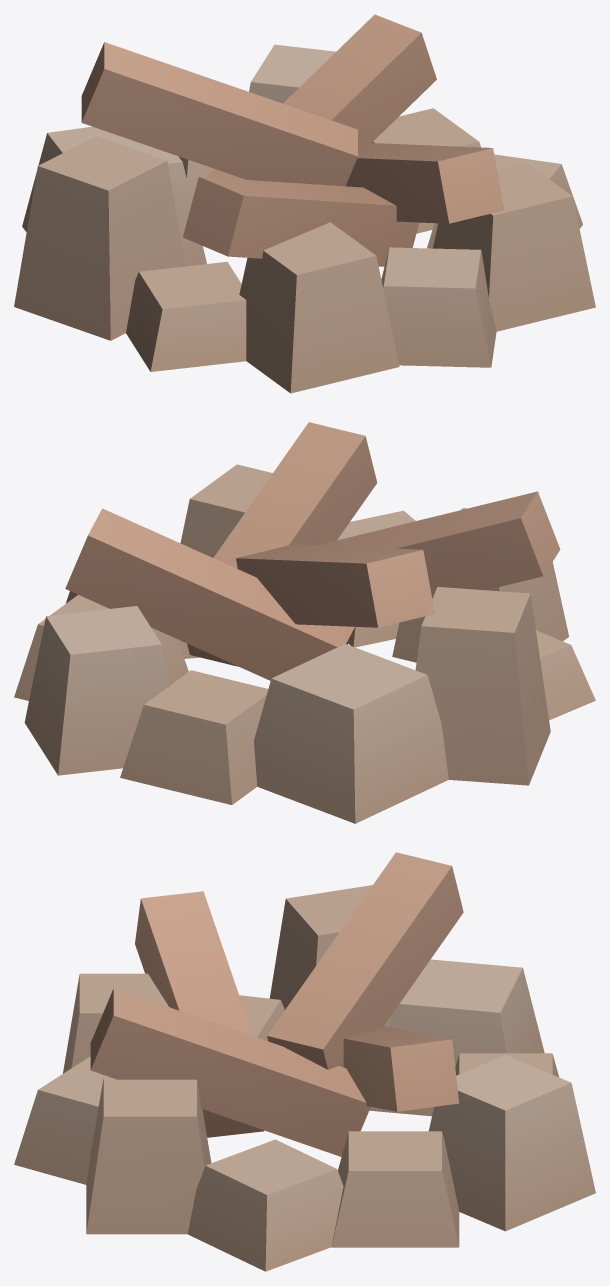
The model's file is campfire.glb.
3 renders of one model, top to bottom at view 1: azimuth 30°, elevation 25°; view 2: azimuth 150°, elevation 25°; view 3: azimuth 270°, elevation 25°, orthographic. The views are drawn at different scales.
Visible parts, largest first — view 1: campfire-pit; view 2: campfire-pit; view 3: campfire-pit.
Part boxes in pixels (<box>): campfire-pit: <box>14,14,595,393</box>; campfire-pit: <box>14,422,595,823</box>; campfire-pit: <box>14,852,595,1271</box>.
Bounding box in the file's own units: 1.4 × 0.5497 × 1.36.
